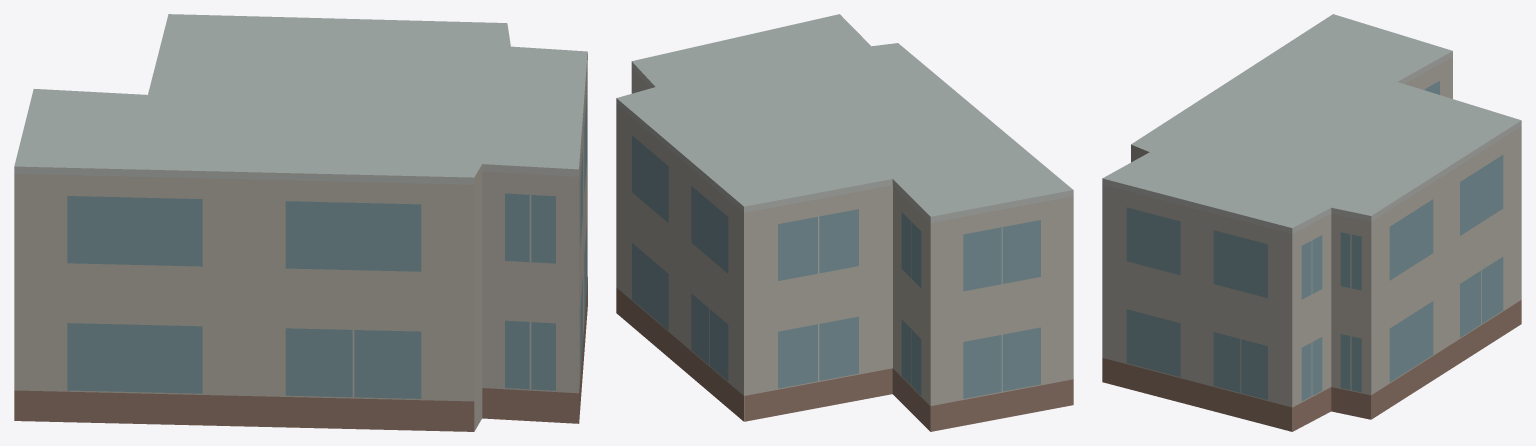
Rendered from survey-upis-32997129.glb.
The picture shows the model from 3 angles, left to right: view 1: azimuth 30°, elevation 25°; view 2: azimuth 150°, elevation 25°; view 3: azimuth 270°, elevation 25°; orthographic projection. The views are drawn at different scales.
Parts seen in each view (by area): view 1: survey-upis-32997129.tmp; view 2: survey-upis-32997129.tmp; view 3: survey-upis-32997129.tmp.
Part boxes in pixels (x1=…): survey-upis-32997129.tmp: x1=14, y1=14, x2=587, y2=431; survey-upis-32997129.tmp: x1=616, y1=14, x2=1073, y2=431; survey-upis-32997129.tmp: x1=1102, y1=14, x2=1521, y2=431.
Bounding box in the file's own units: 19.18 × 8.5 × 15.87.
